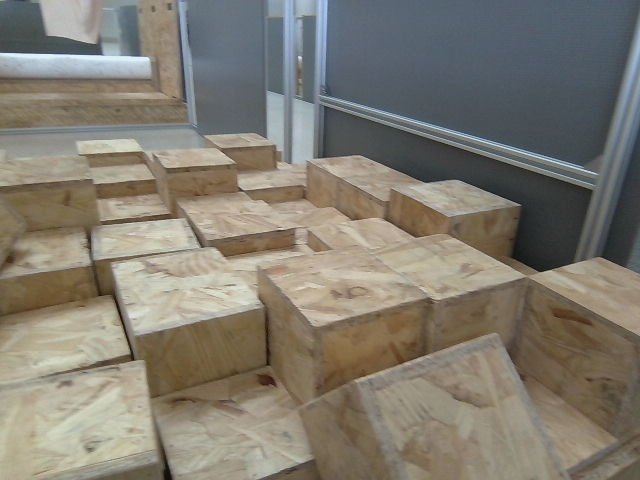curtain: (32, 0, 128, 34)
